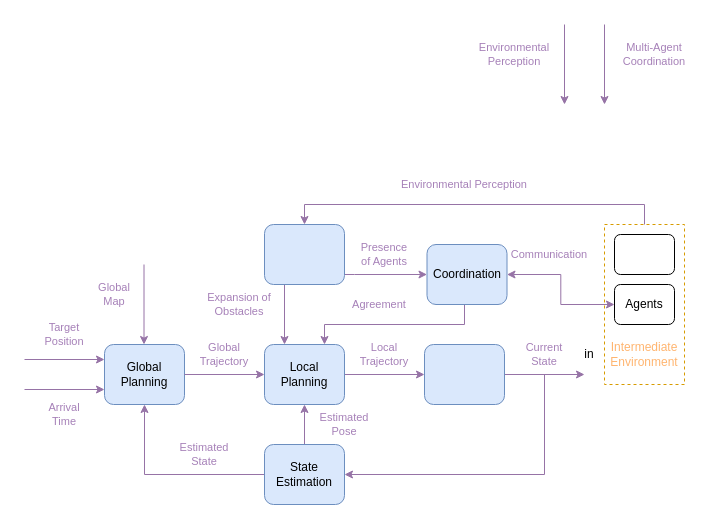
Some shapes in this 703 by 522 pixel diagram are drawn without their labels. Each missing label, with the centre of its shape:
"Environmental Detection" goes at (304,254).
"Obstacles" goes at (644,254).
"Trajectory Tracking" goes at (464,374).
